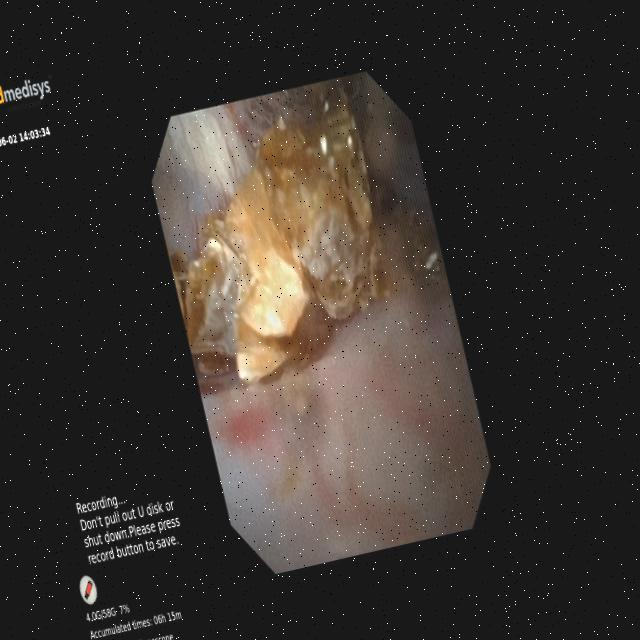stone-new: (167, 99, 391, 382)
